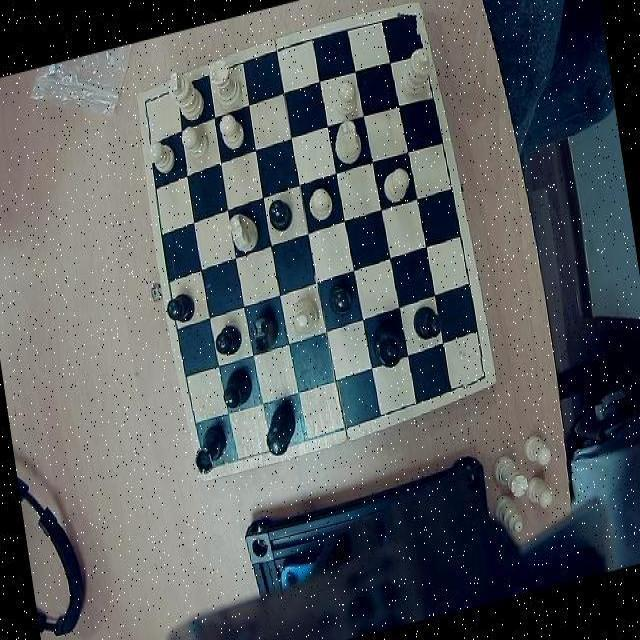chess-table-corners: (459, 354, 494, 390), (195, 442, 229, 478), (394, 2, 426, 38), (138, 88, 164, 119)
